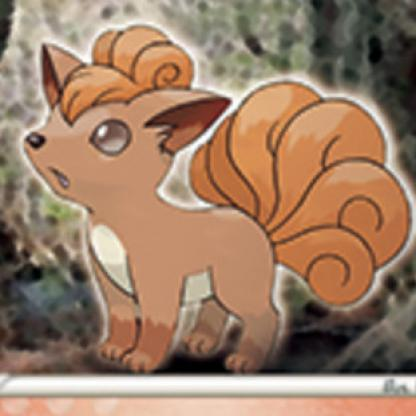Vulpix: (26, 16, 410, 373)
